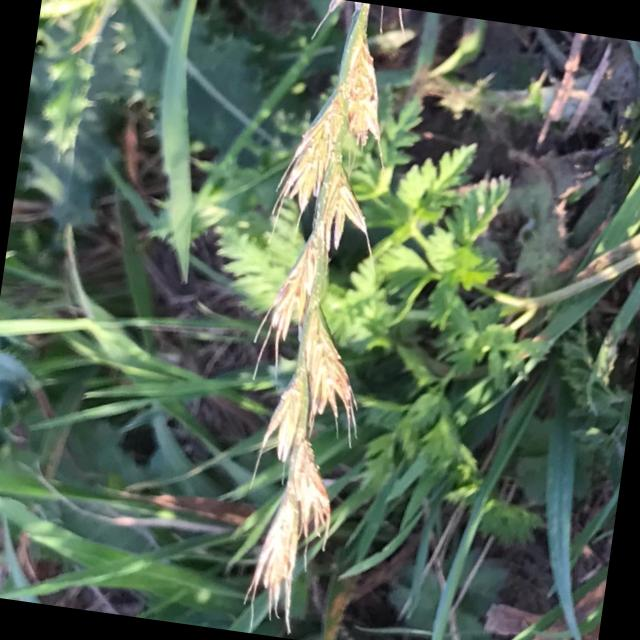Lolium: (206, 0, 422, 639)
